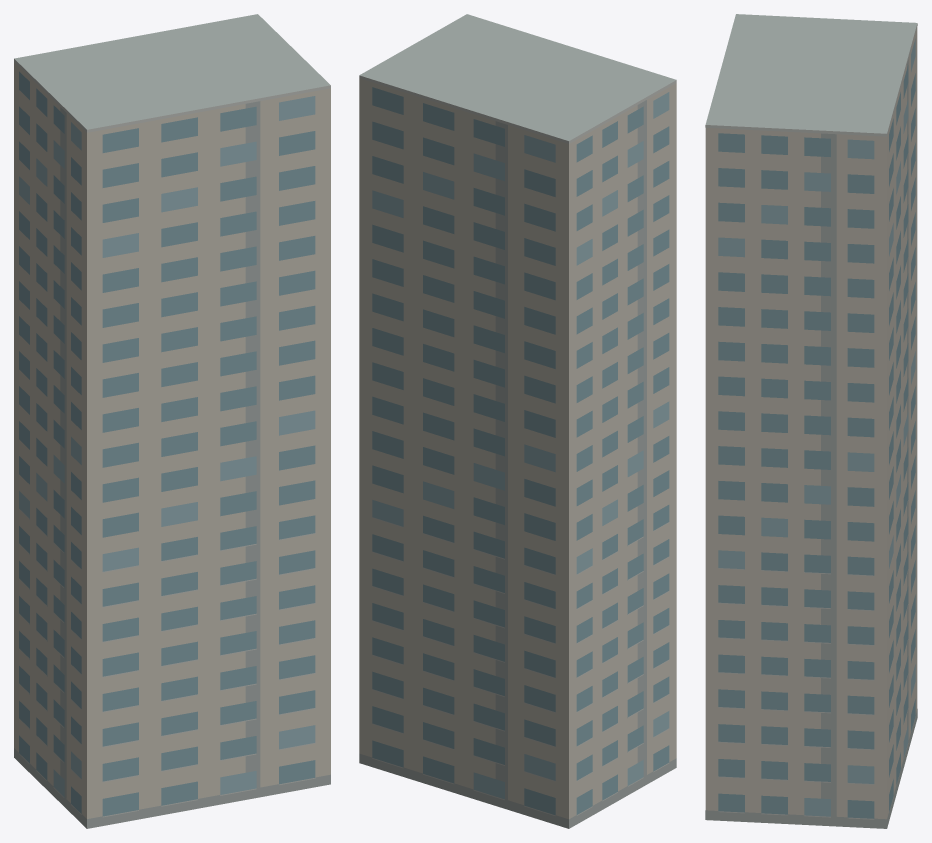
Rendered from residential-12932ac6-040a-442c-9ccd-ecf3cfe869e1.glb.
The picture shows the model from 3 angles, left to right: view 1: azimuth 30°, elevation 25°; view 2: azimuth 150°, elevation 25°; view 3: azimuth 270°, elevation 25°; orthographic projection.
Visible parts, largest first — view 1: residential-12932ac6-040a-442c-9ccd-ecf3cfe869e1.tmp; view 2: residential-12932ac6-040a-442c-9ccd-ecf3cfe869e1.tmp; view 3: residential-12932ac6-040a-442c-9ccd-ecf3cfe869e1.tmp.
Boxes of the visible parts, x1,y1,x2,y2 form: residential-12932ac6-040a-442c-9ccd-ecf3cfe869e1.tmp: (14, 14, 330, 828); residential-12932ac6-040a-442c-9ccd-ecf3cfe869e1.tmp: (359, 14, 676, 828); residential-12932ac6-040a-442c-9ccd-ecf3cfe869e1.tmp: (705, 14, 917, 828).
Bounding box in the file's own units: 21.44 × 58 × 16.04.
